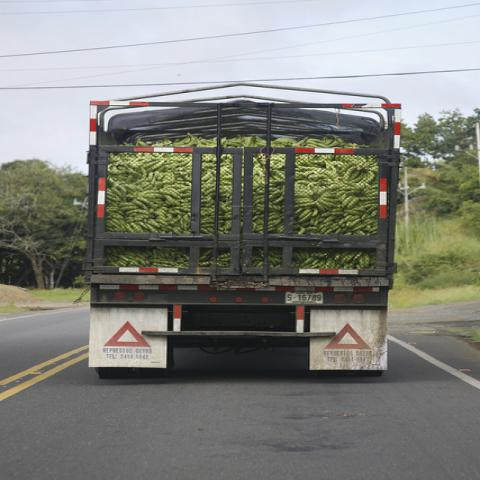truck: (80, 82, 395, 386)
